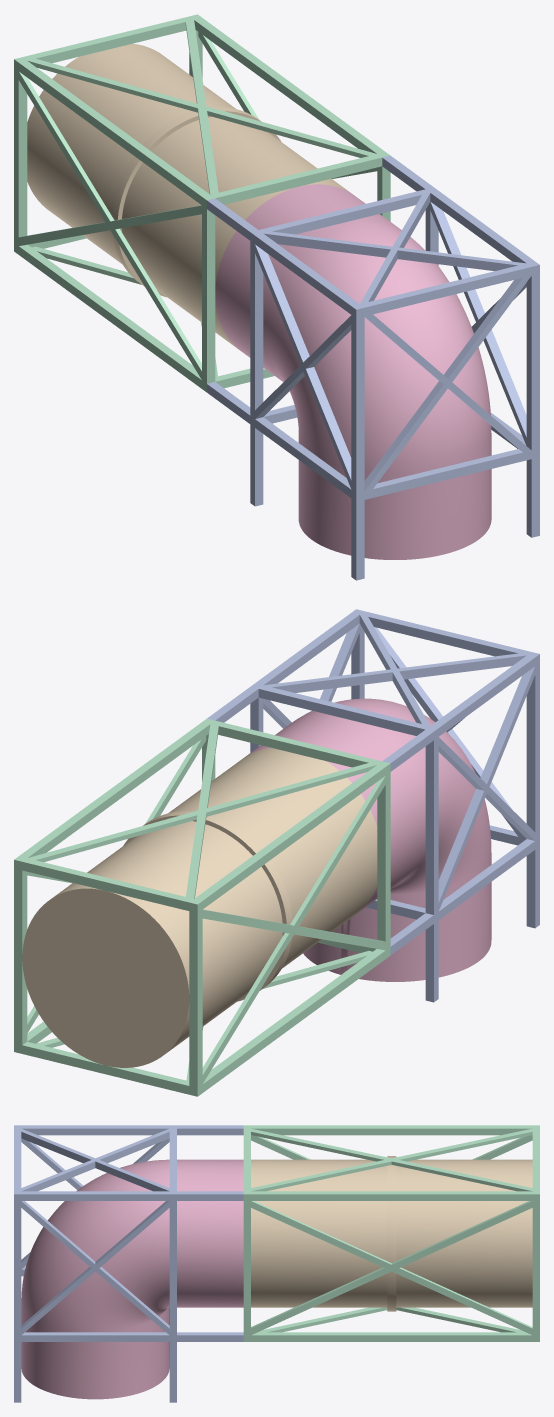
Rendered from Piping_UV_1.fbx.
3 views of the same model, one above another, from view 1: azimuth 30°, elevation 25°; view 2: azimuth 150°, elevation 25°; view 3: azimuth 270°, elevation 25° (orthographic). The views are drawn at different scales.
Visible parts, largest first — view 1: Piping__PipingKit_v3_Curved_Pipe_PipingKit_v3, Piping__PipingKit_v3_Curved_Outer_Frame_PipingKit_v3, Piping__PipingKit_v3_Pipe_PipingKit_v3, Piping__PipingKit_v3_Outer_Frame_PipingKit_v3; view 2: Piping__PipingKit_v3_Pipe_PipingKit_v3, Piping__PipingKit_v3_Outer_Frame_PipingKit_v3, Piping__PipingKit_v3_Curved_Outer_Frame_PipingKit_v3, Piping__PipingKit_v3_Curved_Pipe_PipingKit_v3; view 3: Piping__PipingKit_v3_Curved_Pipe_PipingKit_v3, Piping__PipingKit_v3_Pipe_PipingKit_v3, Piping__PipingKit_v3_Outer_Frame_PipingKit_v3, Piping__PipingKit_v3_Curved_Outer_Frame_PipingKit_v3.
Boxes of the visible parts, bbox=[...] form: Piping__PipingKit_v3_Curved_Pipe_PipingKit_v3: bbox=[215, 184, 491, 559]; Piping__PipingKit_v3_Curved_Outer_Frame_PipingKit_v3: bbox=[207, 155, 539, 580]; Piping__PipingKit_v3_Pipe_PipingKit_v3: bbox=[27, 43, 351, 348]; Piping__PipingKit_v3_Outer_Frame_PipingKit_v3: bbox=[14, 14, 390, 392]; Piping__PipingKit_v3_Pipe_PipingKit_v3: bbox=[22, 748, 377, 1067]; Piping__PipingKit_v3_Outer_Frame_PipingKit_v3: bbox=[14, 718, 390, 1096]; Piping__PipingKit_v3_Curved_Outer_Frame_PipingKit_v3: bbox=[207, 609, 539, 1002]; Piping__PipingKit_v3_Curved_Pipe_PipingKit_v3: bbox=[245, 698, 491, 981]; Piping__PipingKit_v3_Curved_Pipe_PipingKit_v3: bbox=[21, 1159, 243, 1399]; Piping__PipingKit_v3_Pipe_PipingKit_v3: bbox=[251, 1156, 532, 1311]; Piping__PipingKit_v3_Outer_Frame_PipingKit_v3: bbox=[243, 1125, 539, 1341]; Piping__PipingKit_v3_Curved_Outer_Frame_PipingKit_v3: bbox=[14, 1125, 243, 1402].
Bounding box in the file's own units: 110 × 155 × 355.
